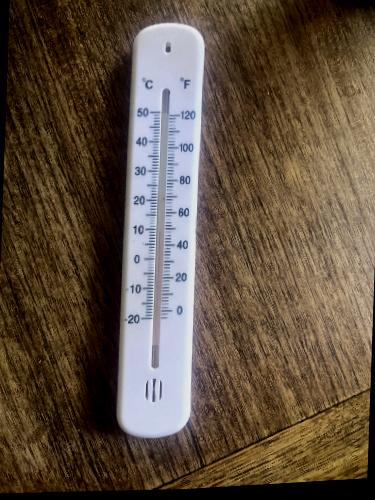thermo: (112, 24, 207, 437)
